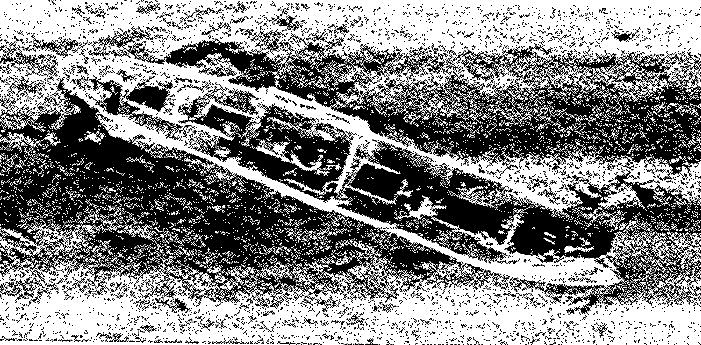ship: (54, 52, 623, 287)
